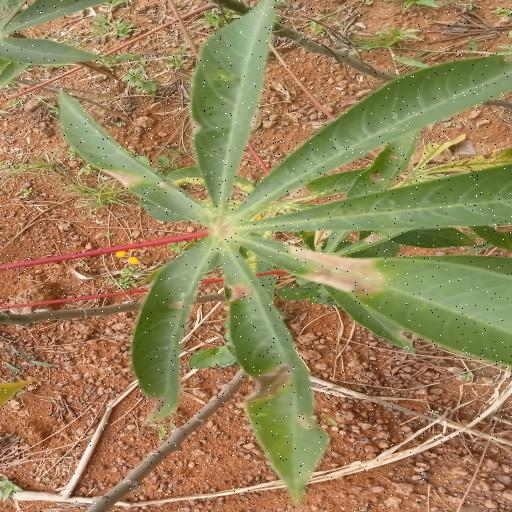Cassava_Brown_Leaf_Spot: (51, 5, 512, 496)
